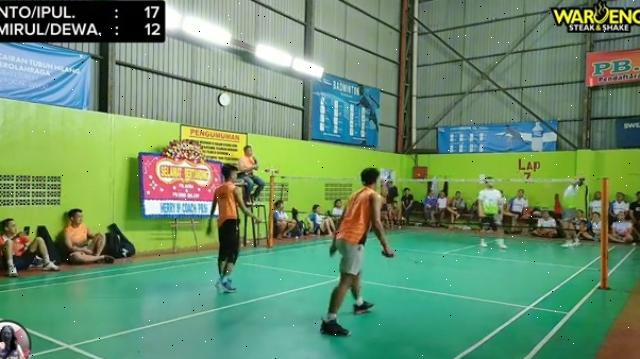Shuttlecock: (582, 74, 596, 90)
